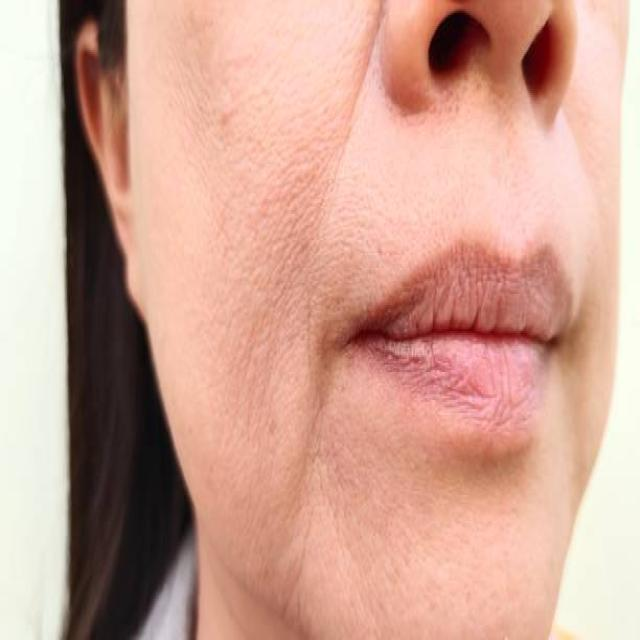Dry-Skin: (263, 387, 516, 640), (294, 292, 470, 478), (389, 189, 554, 335), (188, 0, 260, 324), (225, 81, 336, 218), (210, 27, 217, 584)
